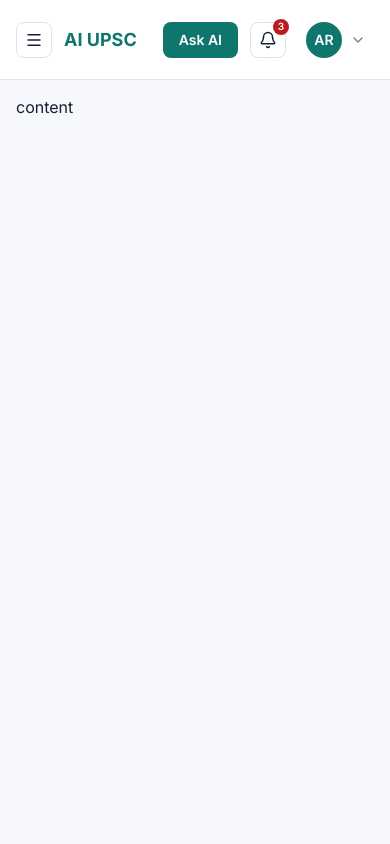
Test case: Sidebar › mobile menu button toggles aria-expanded and reveals the nav
Click the button named "Open navigation" at x=34, y=40, box [16,22,52,58]
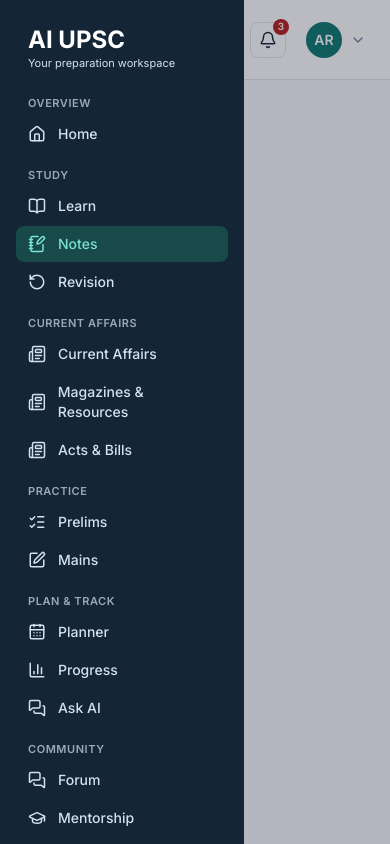
Check: the button named "Open navigation" is expanded, box [16,22,52,58]
Press Escape
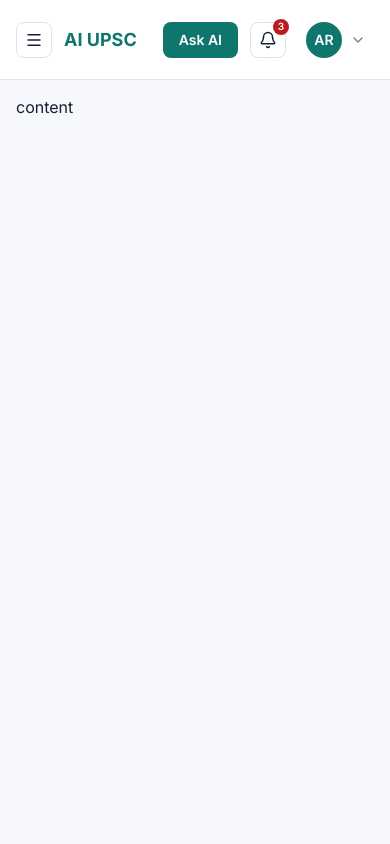
Check: the button named "Open navigation" is collapsed, box [16,22,52,58]
